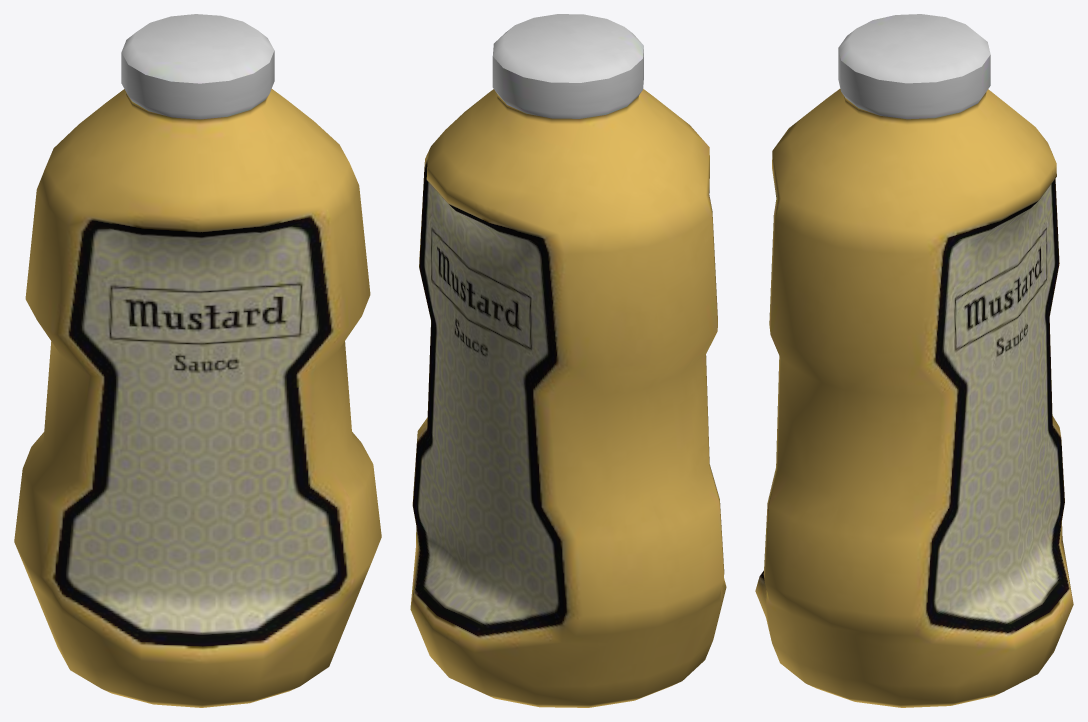
Rendered from mp-mustard.glb.
3 views of the same model, side by side, from view 1: azimuth 30°, elevation 25°; view 2: azimuth 150°, elevation 25°; view 3: azimuth 270°, elevation 25° (orthographic).
Parts seen in each view (by area): view 1: Ketchup1.001; view 2: Ketchup1.001; view 3: Ketchup1.001.
Boxes of the visible parts, left/top/right/bottom form: Ketchup1.001: left=14, top=14, right=381, bottom=707; Ketchup1.001: left=410, top=14, right=726, bottom=707; Ketchup1.001: left=755, top=14, right=1073, bottom=707.
Bounding box in the file's own units: 0.1074 × 0.2 × 0.0941.
1 material, 1 textured.
